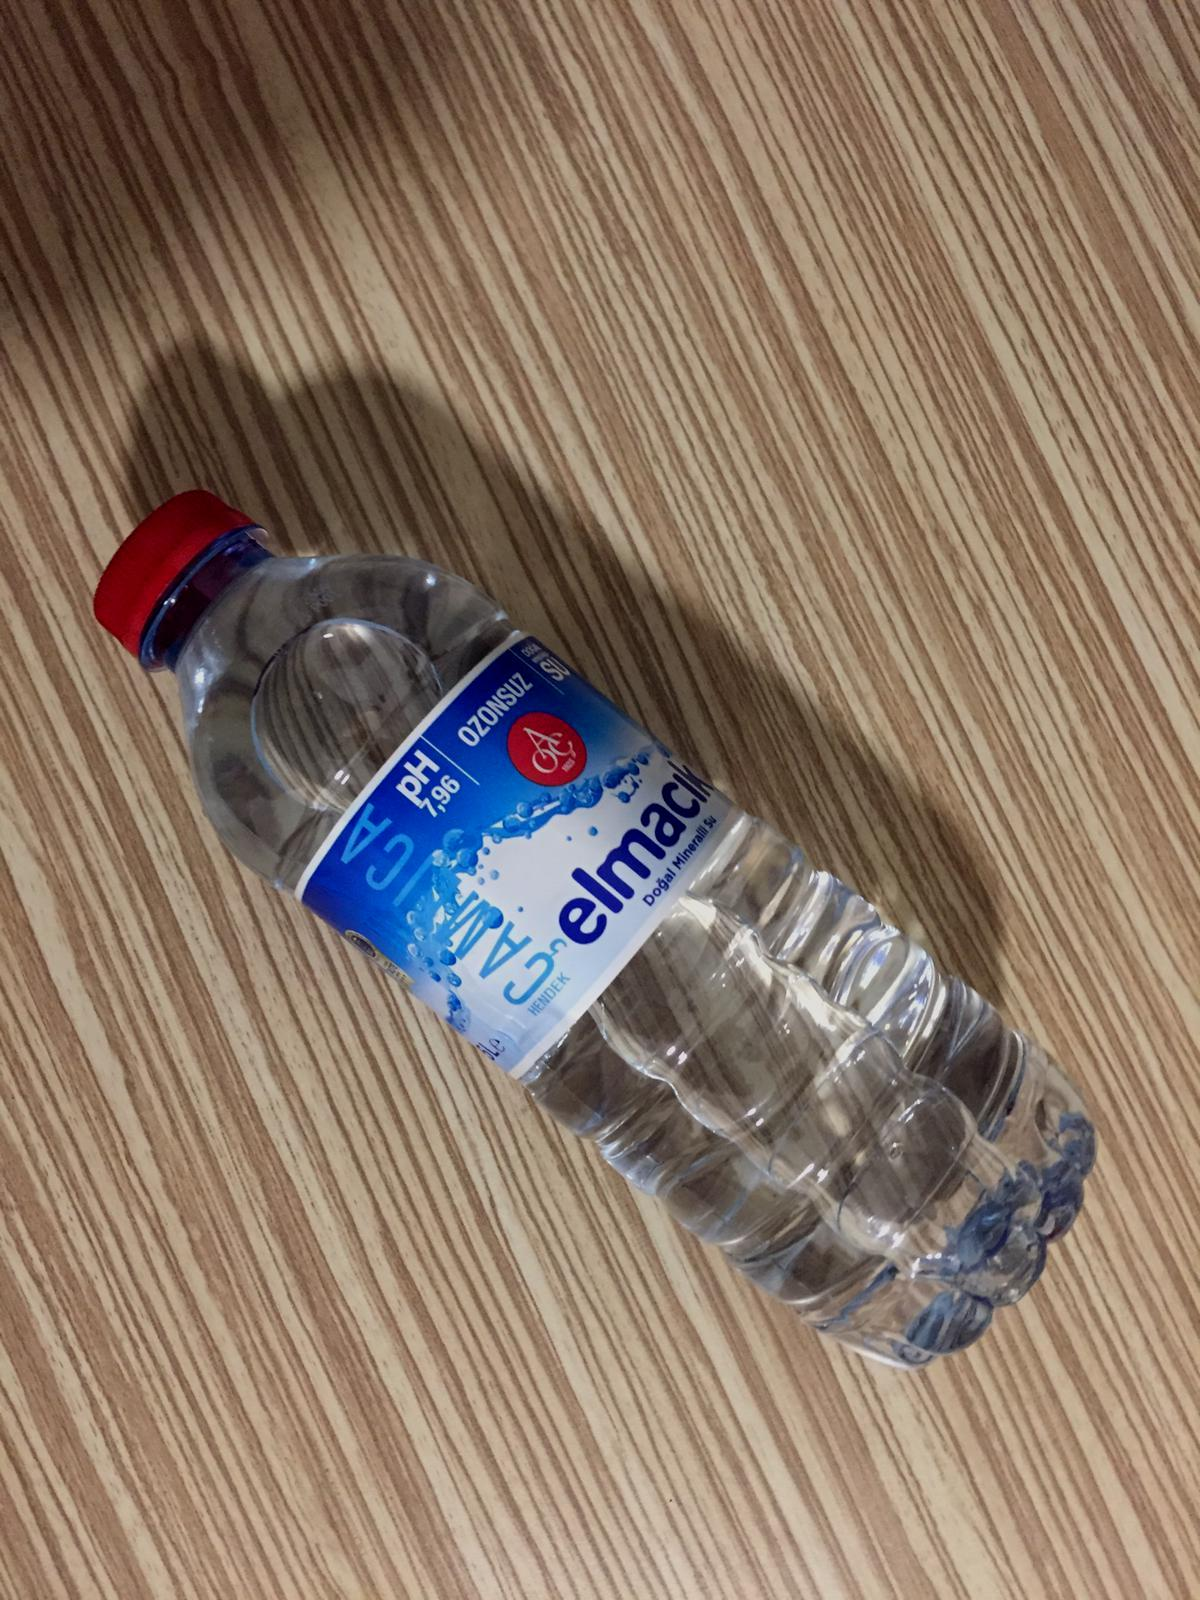bottle: (98, 489, 1095, 1369)
